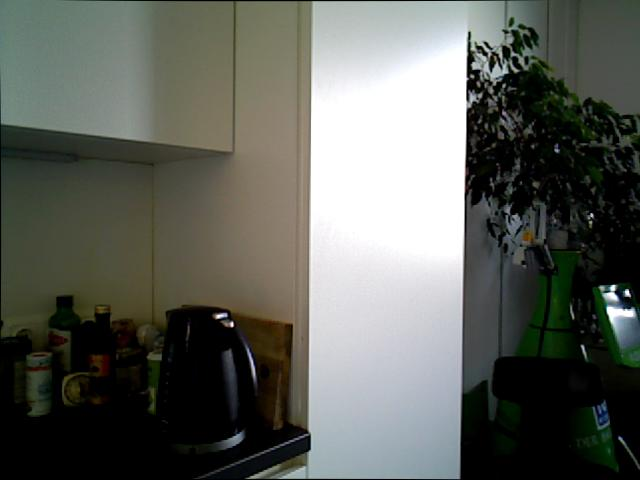bench: (46, 292, 84, 411), (87, 304, 115, 406)
carrot: (465, 16, 639, 362)
giraffe: (58, 370, 100, 410)
hot dog: (306, 0, 467, 479)
